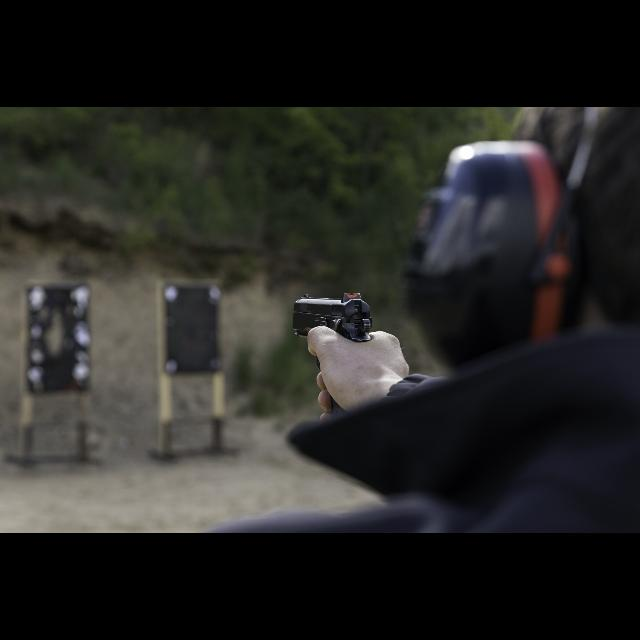handgun: (290, 286, 374, 348)
